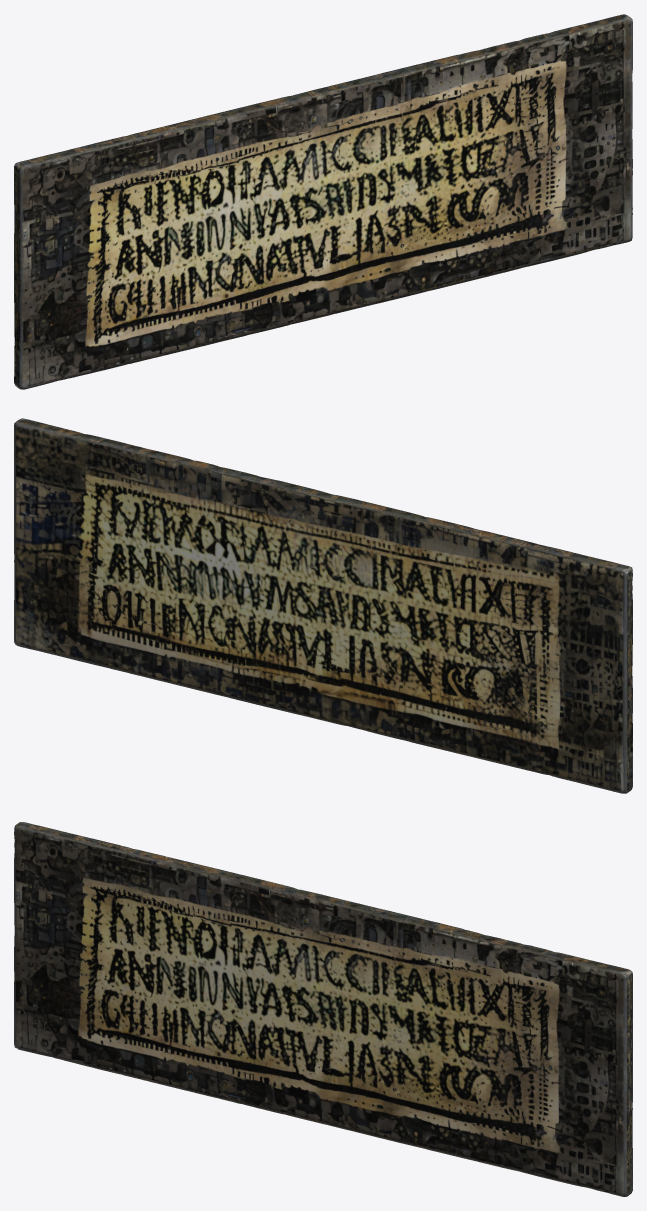
The model's file is alternate.glb.
The picture shows the model from 3 angles, top to bottom: view 1: azimuth 30°, elevation 25°; view 2: azimuth 150°, elevation 25°; view 3: azimuth 330°, elevation 25°; orthographic projection.
Size of the model in its own units: 2 by 0.6988 by 0.0451.
Materials: 1 (1 with a texture image).
